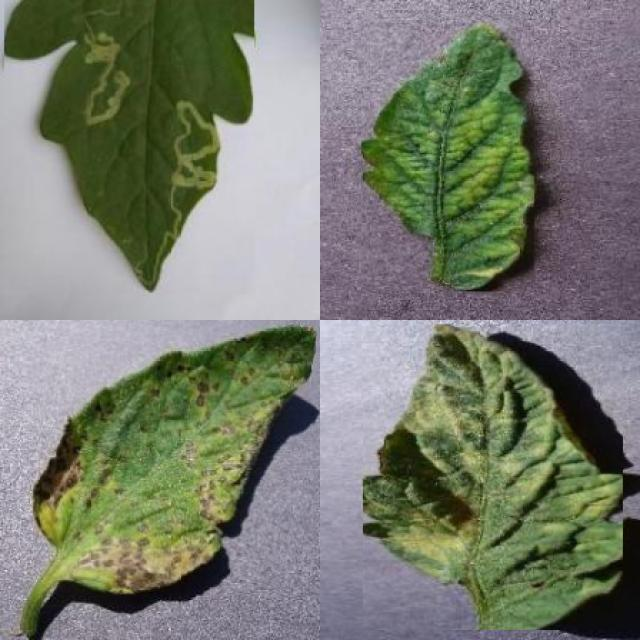Leaf Miner: (4, 0, 254, 294)
Leaf Mold: (363, 324, 623, 630)
Mosaic Virus: (358, 15, 535, 292)
Septoria: (34, 324, 316, 596)
